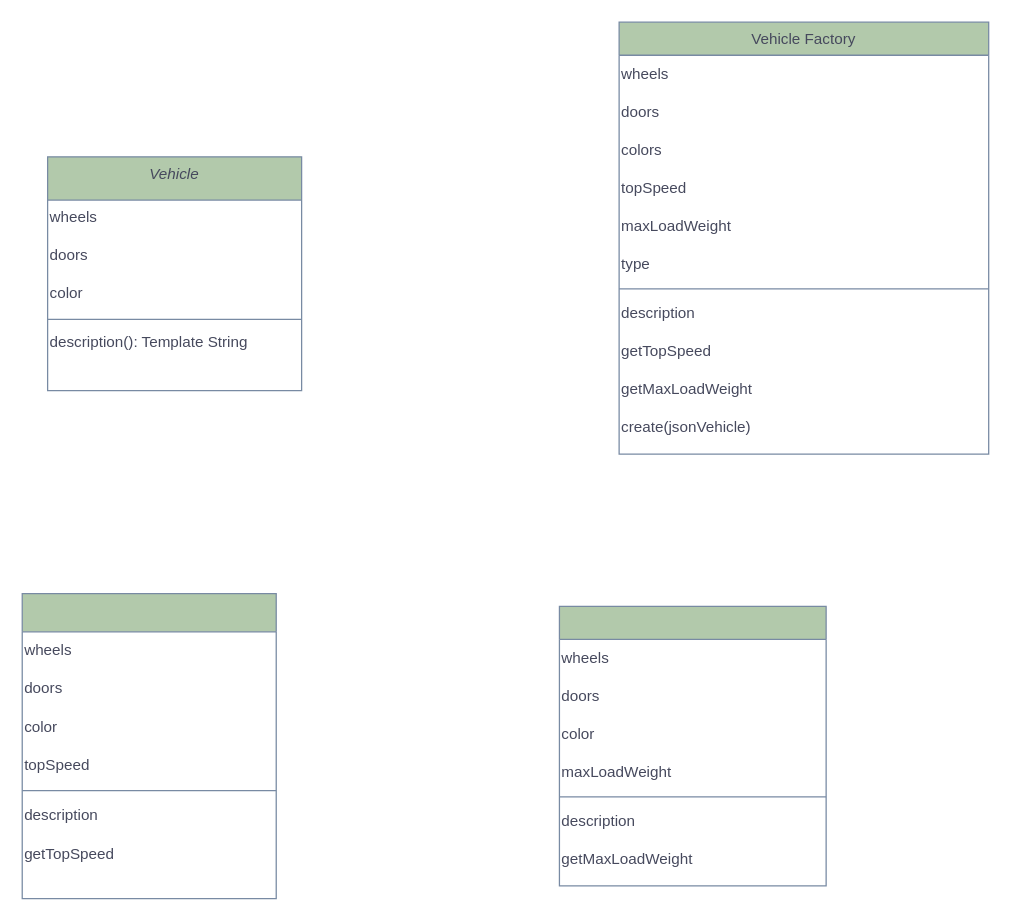
Some shapes in this 1011 by 921 pixel diagram are drawn without their labels. Each missing label, with the box of its shape:
Car: (21, 592, 276, 899)
Truck: (558, 605, 826, 886)
